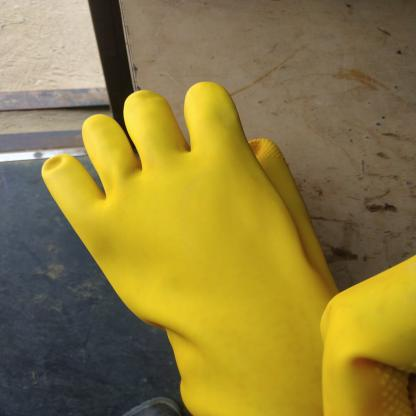gloved_hand: (36, 78, 341, 415), (319, 250, 414, 415)
